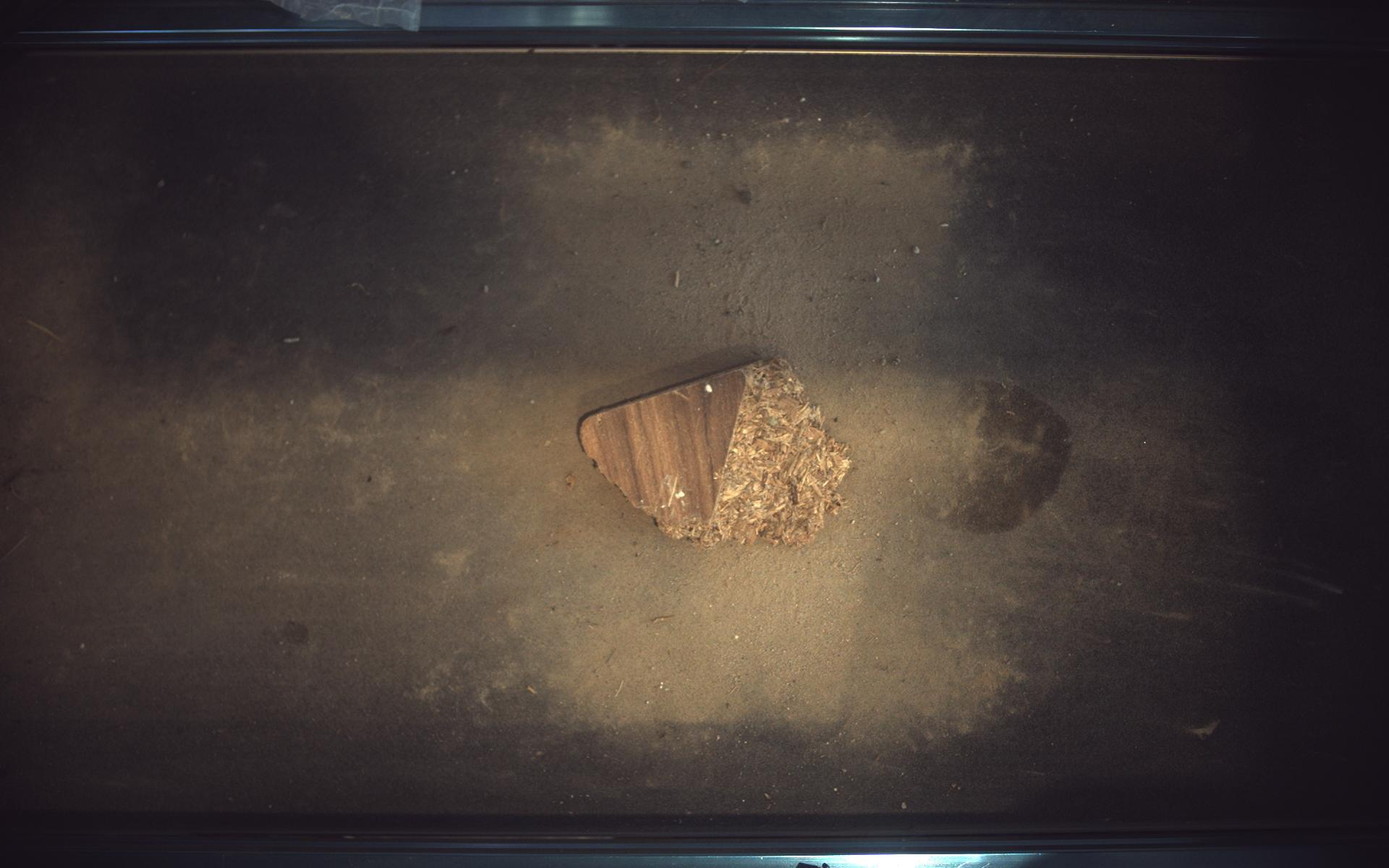wood: (579, 358, 852, 546)
